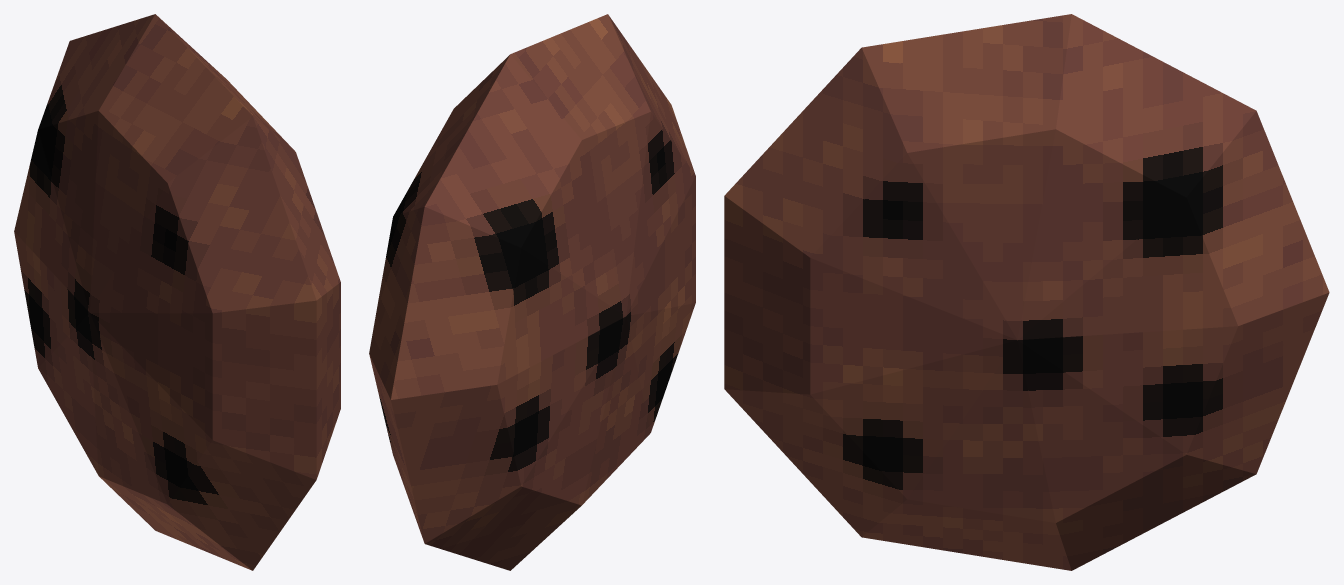
The model's file is Cookie.gltf.
3 renders of one model, left to right at view 1: azimuth 30°, elevation 25°; view 2: azimuth 150°, elevation 25°; view 3: azimuth 270°, elevation 25°, orthographic. The views are drawn at different scales.
Visible parts, largest first — view 1: Sphere; view 2: Sphere; view 3: Sphere.
Part boxes in pixels (<box>): Sphere: <box>14,14,340,570</box>; Sphere: <box>369,14,695,570</box>; Sphere: <box>724,14,1329,570</box>.
Bounding box in the file's own units: 0.1809 × 0.4924 × 0.4849.
1 material, 1 textured.
